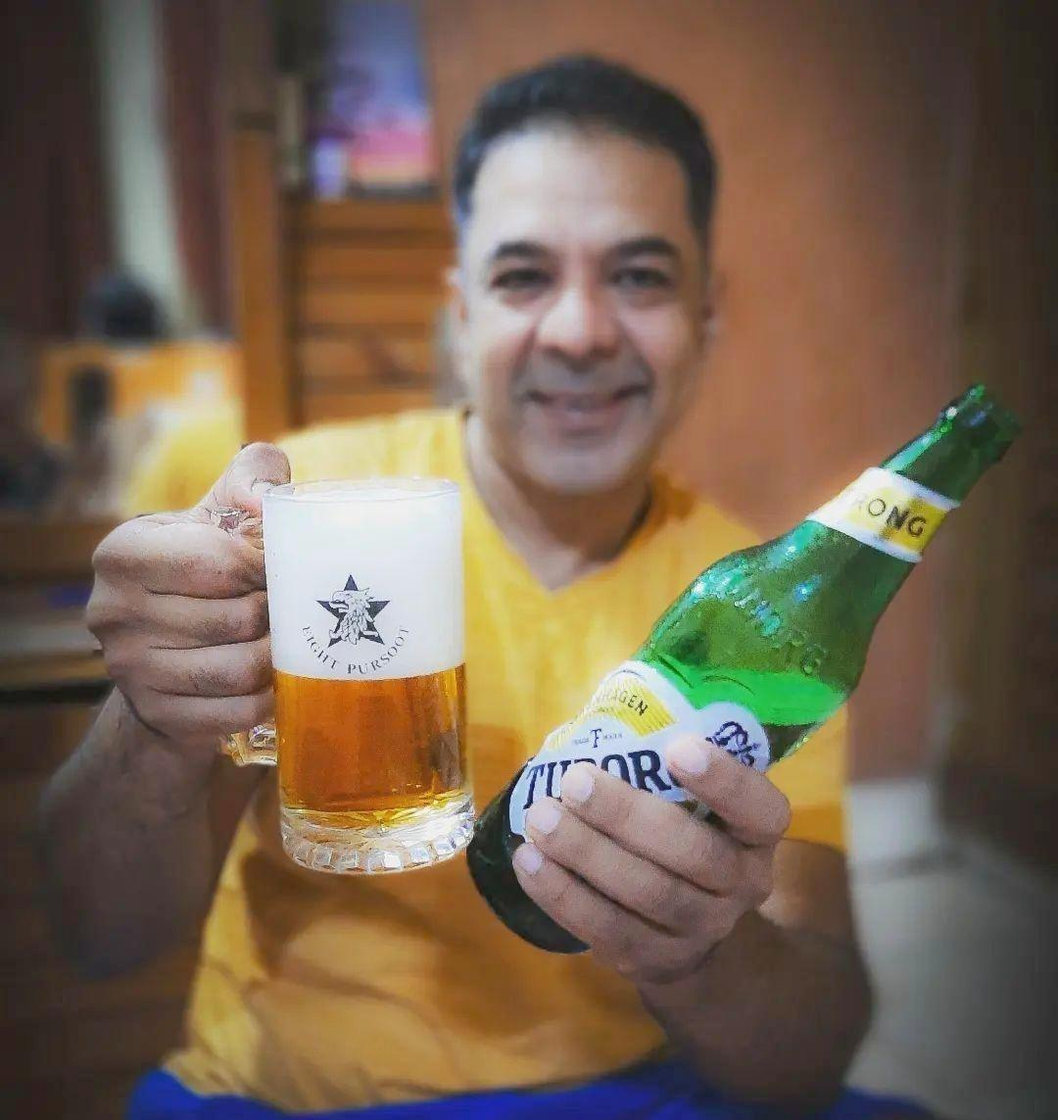bottle-glass: (468, 365, 1032, 948)
glass-mug: (214, 464, 484, 887)
